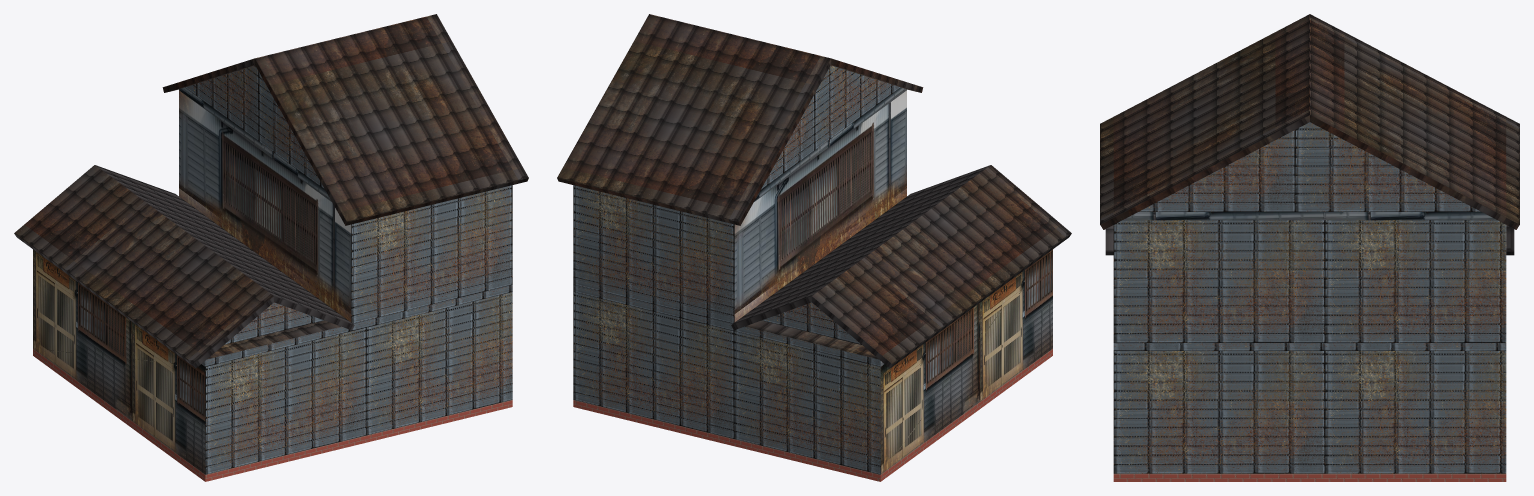
The model's file is rusted_house_3.fbx.
3 views of the same model, side by side, from view 1: azimuth 30°, elevation 25°; view 2: azimuth 150°, elevation 25°; view 3: azimuth 270°, elevation 25° (orthographic). The views are drawn at different scales.
Visible parts, largest first — view 1: Roof Side_4dLbG0bpRqaA-XqTmXX7zg, Wall_JQOO1zAKQEGCvvqDAy0PtQ, Roof Side_3PdSf9VKRR-_1loMbJH8yQ, Wall_K8VB3sBaSxalHAKVBo63wA, Wall_u6yMgF_ZSf2mGKOm_IoWgQ, Wall_r0ukG63USYWegREDu5oydQ, Roof Side_0VXSGzabQAKU8boZI08Qgg, Roof Gable_FdM_UZpgQSy014rCwzJUWQ, Slab_KgSvSXy1Tsms1W16jYRbBw, Slab_Imgxxh7USSC9WWUPBOQgAQ, Roof Gable_bx3DYtvtTHO9HYrAavvLMg, Slab_MwChlLuVSIOTpARbK-mDYA (+1 smaller); view 2: Roof Side_NxAABhqzR06OZeNFNbo5mQ, Wall_I85NbX6OSw-GgQy3MY9B3Q, Roof Side_3PdSf9VKRR-_1loMbJH8yQ, Wall_K8VB3sBaSxalHAKVBo63wA, Wall_u6yMgF_ZSf2mGKOm_IoWgQ, Wall_mGSv_4gWRhmYDhadbl0URQ, Roof Side_0VXSGzabQAKU8boZI08Qgg, Roof Gable_FdM_UZpgQSy014rCwzJUWQ, Slab_KgSvSXy1Tsms1W16jYRbBw, Slab_Imgxxh7USSC9WWUPBOQgAQ, Roof Gable_pmT6FE2EQ2aAWGlpuogxmQ, Slab_MwChlLuVSIOTpARbK-mDYA (+1 smaller); view 3: Wall_cG0GXRkdQAqU87E6Nmbc7g, Wall_YnVfkxZEQGCyUD_M3ULA2Q, Roof Side_NxAABhqzR06OZeNFNbo5mQ, Roof Side_4dLbG0bpRqaA-XqTmXX7zg, Roof Gable_60db227gRriQ2ltjrnymGw, Slab_KgSvSXy1Tsms1W16jYRbBw, Slab_MwChlLuVSIOTpARbK-mDYA, Slab_Imgxxh7USSC9WWUPBOQgAQ, Roof Side_0VXSGzabQAKU8boZI08Qgg.
Boxes of the visible parts, left/top/right/bottom form: Roof Side_4dLbG0bpRqaA-XqTmXX7zg: left=254, top=14, right=528, bottom=225; Wall_JQOO1zAKQEGCvvqDAy0PtQ: left=205, top=292, right=512, bottom=474; Roof Side_3PdSf9VKRR-_1loMbJH8yQ: left=14, top=165, right=273, bottom=368; Wall_K8VB3sBaSxalHAKVBo63wA: left=179, top=90, right=351, bottom=322; Wall_u6yMgF_ZSf2mGKOm_IoWgQ: left=33, top=249, right=205, bottom=474; Wall_r0ukG63USYWegREDu5oydQ: left=351, top=185, right=512, bottom=323; Roof Side_0VXSGzabQAKU8boZI08Qgg: left=95, top=165, right=354, bottom=330; Roof Gable_FdM_UZpgQSy014rCwzJUWQ: left=185, top=65, right=324, bottom=189; Slab_KgSvSXy1Tsms1W16jYRbBw: left=33, top=349, right=512, bottom=481; Slab_Imgxxh7USSC9WWUPBOQgAQ: left=202, top=285, right=512, bottom=366; Roof Gable_bx3DYtvtTHO9HYrAavvLMg: left=224, top=302, right=323, bottom=344; Slab_MwChlLuVSIOTpARbK-mDYA: left=179, top=87, right=331, bottom=201; Roof Side_NxAABhqzR06OZeNFNbo5mQ: left=557, top=14, right=831, bottom=225; Wall_I85NbX6OSw-GgQy3MY9B3Q: left=573, top=292, right=880, bottom=474; Roof Side_3PdSf9VKRR-_1loMbJH8yQ: left=812, top=165, right=1071, bottom=368; Wall_K8VB3sBaSxalHAKVBo63wA: left=734, top=90, right=906, bottom=322; Wall_u6yMgF_ZSf2mGKOm_IoWgQ: left=880, top=249, right=1052, bottom=474; Wall_mGSv_4gWRhmYDhadbl0URQ: left=573, top=185, right=734, bottom=323; Roof Side_0VXSGzabQAKU8boZI08Qgg: left=731, top=165, right=990, bottom=330; Roof Gable_FdM_UZpgQSy014rCwzJUWQ: left=761, top=65, right=900, bottom=189; Slab_KgSvSXy1Tsms1W16jYRbBw: left=573, top=349, right=1052, bottom=481; Slab_Imgxxh7USSC9WWUPBOQgAQ: left=573, top=285, right=883, bottom=366; Roof Gable_pmT6FE2EQ2aAWGlpuogxmQ: left=762, top=302, right=861, bottom=344; Slab_MwChlLuVSIOTpARbK-mDYA: left=754, top=87, right=906, bottom=201; Wall_cG0GXRkdQAqU87E6Nmbc7g: left=1113, top=351, right=1506, bottom=473; Wall_YnVfkxZEQGCyUD_M3ULA2Q: left=1113, top=220, right=1506, bottom=342; Roof Side_NxAABhqzR06OZeNFNbo5mQ: left=1310, top=14, right=1519, bottom=229; Roof Side_4dLbG0bpRqaA-XqTmXX7zg: left=1100, top=14, right=1309, bottom=229; Roof Gable_60db227gRriQ2ltjrnymGw: left=1139, top=122, right=1480, bottom=211; Slab_KgSvSXy1Tsms1W16jYRbBw: left=1113, top=473, right=1506, bottom=481; Slab_MwChlLuVSIOTpARbK-mDYA: left=1123, top=212, right=1496, bottom=220; Slab_Imgxxh7USSC9WWUPBOQgAQ: left=1113, top=343, right=1506, bottom=350; Roof Side_0VXSGzabQAKU8boZI08Qgg: left=1105, top=225, right=1514, bottom=255.
Bounding box in the file's own units: 970 × 911 × 930.
22 materials, 18 textured.
